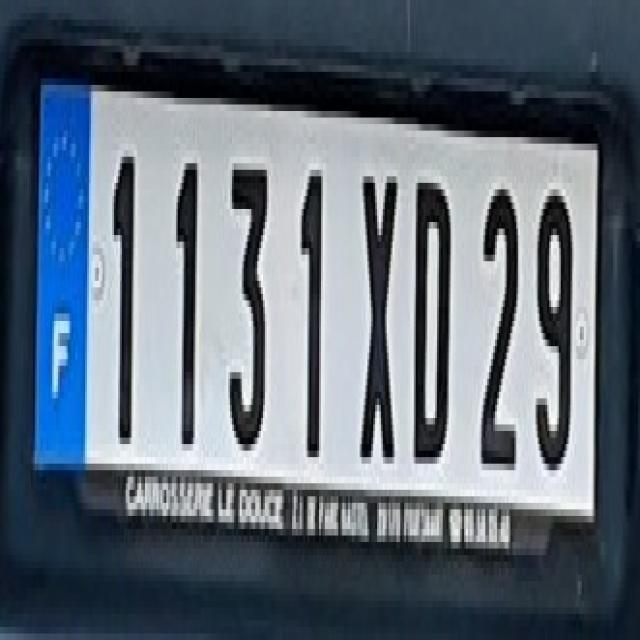EU: (33, 83, 598, 506)
France: (35, 78, 90, 466)
